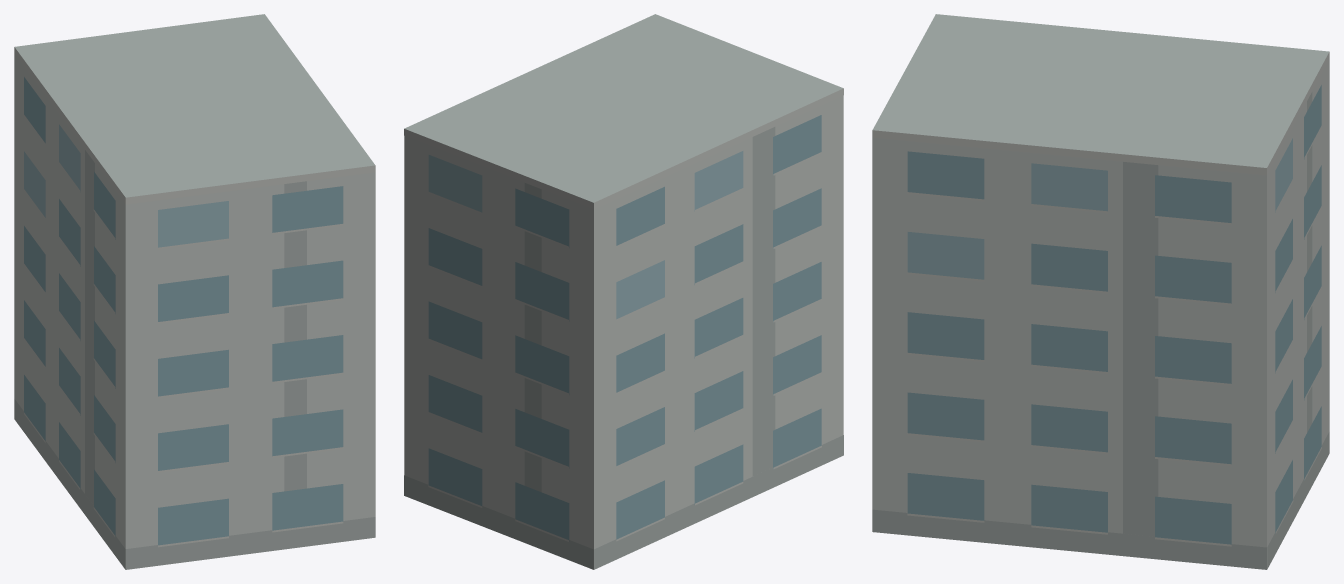
File: survey-upis-32533736.glb
3 renders of one model, left to right at view 1: azimuth 30°, elevation 25°; view 2: azimuth 150°, elevation 25°; view 3: azimuth 270°, elevation 25°, orthographic. The views are drawn at different scales.
Parts seen in each view (by area): view 1: survey-upis-32533736.tmp; view 2: survey-upis-32533736.tmp; view 3: survey-upis-32533736.tmp.
Part boxes in pixels (left/top/right/bottom): survey-upis-32533736.tmp: left=14, top=14, right=375, bottom=569; survey-upis-32533736.tmp: left=404, top=14, right=843, bottom=569; survey-upis-32533736.tmp: left=872, top=14, right=1329, bottom=569.
Bounding box in the file's own units: 10.7 × 13 × 13.42.
